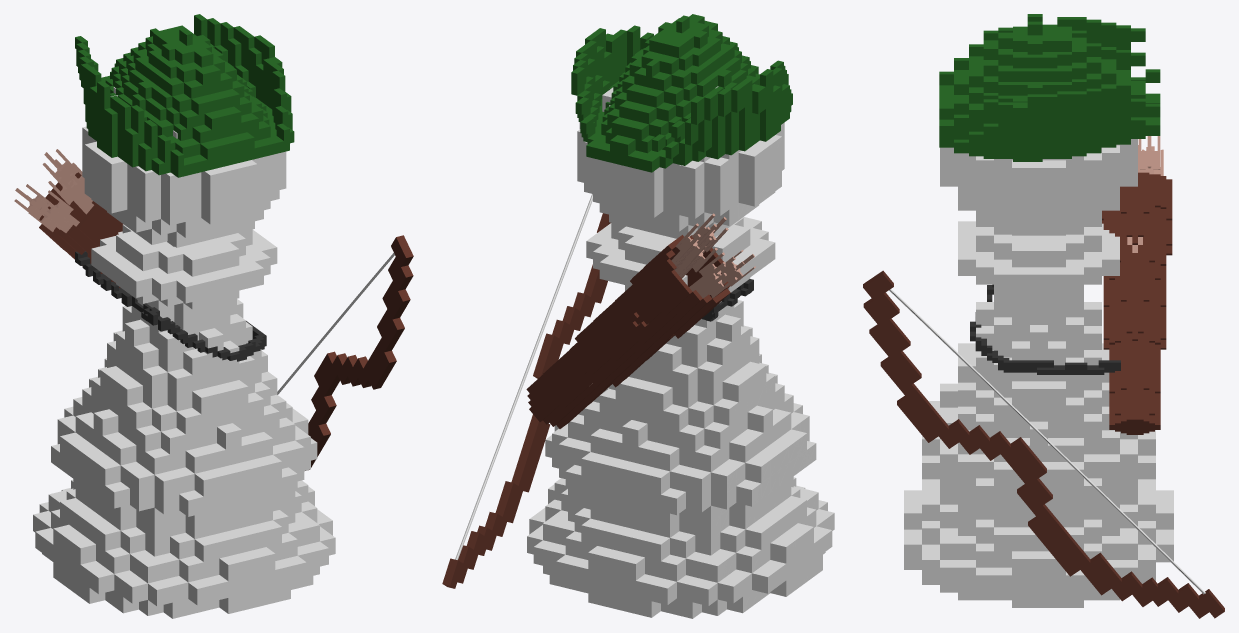
The model's file is Archer.fbx.
3 renders of one model, left to right at view 1: azimuth 30°, elevation 25°; view 2: azimuth 150°, elevation 25°; view 3: azimuth 270°, elevation 25°, orthographic.
Parts seen in each view (by area): view 1: Archer; view 2: Archer; view 3: Archer.
Boxes of the visible parts, x1=… form: Archer: x1=14, y1=14, x2=413, y2=618; Archer: x1=442, y1=14, x2=834, y2=618; Archer: x1=863, y1=14, x2=1224, y2=618.
Bounding box in the file's own units: 182 × 356 × 221.
